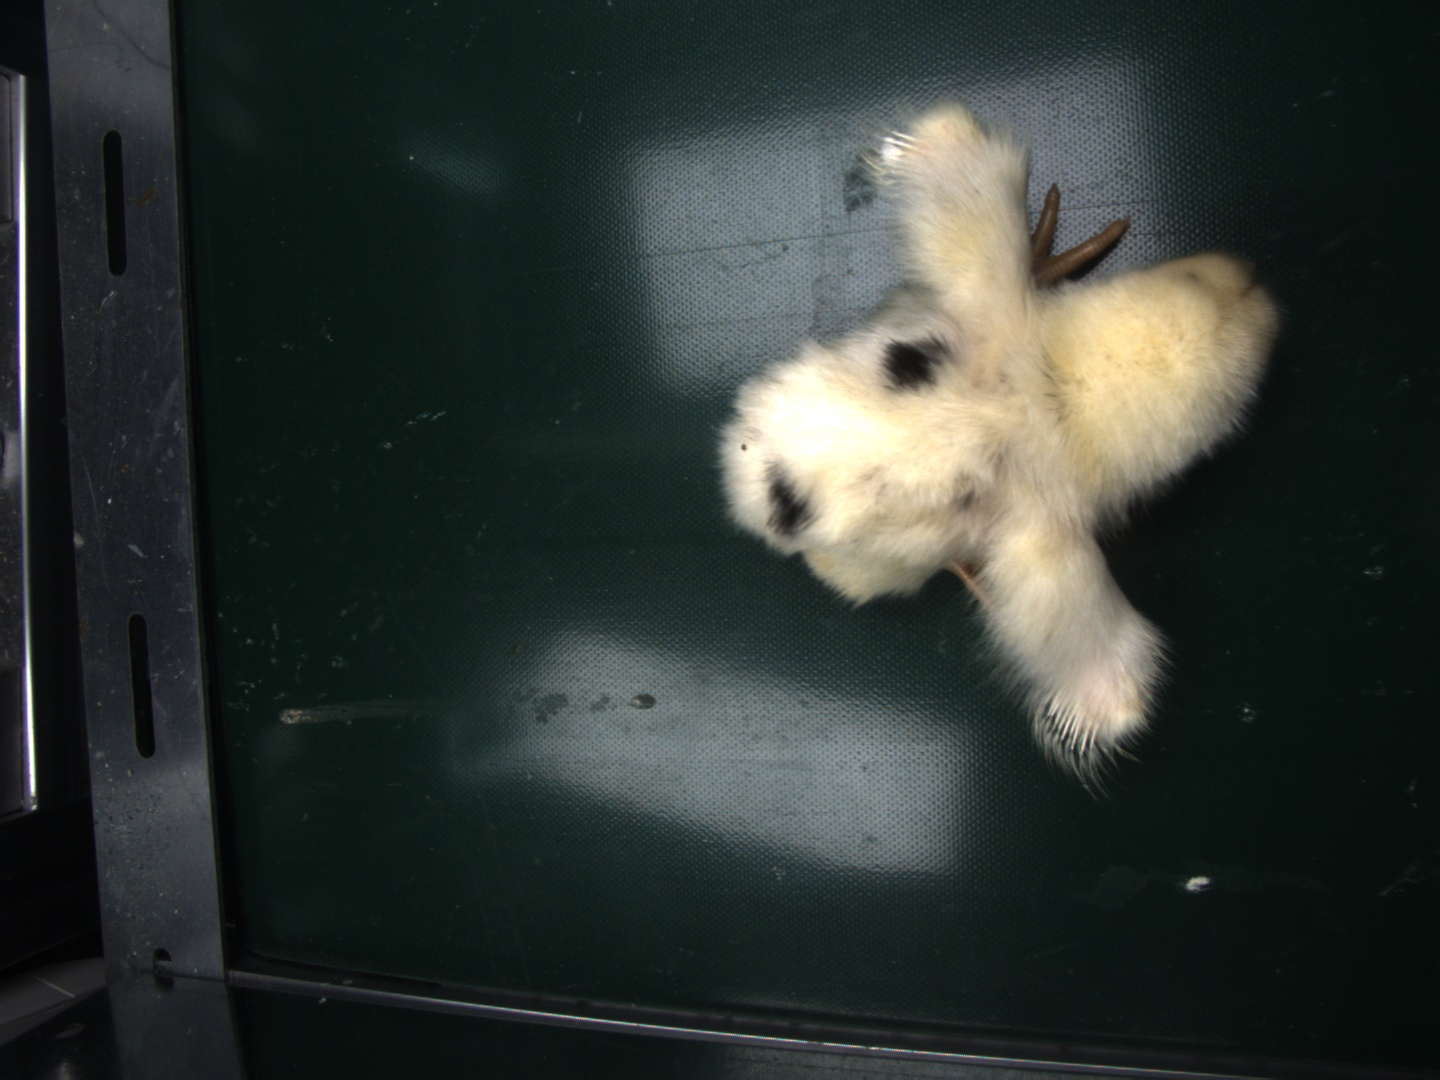male: (1036, 691, 1111, 758)
